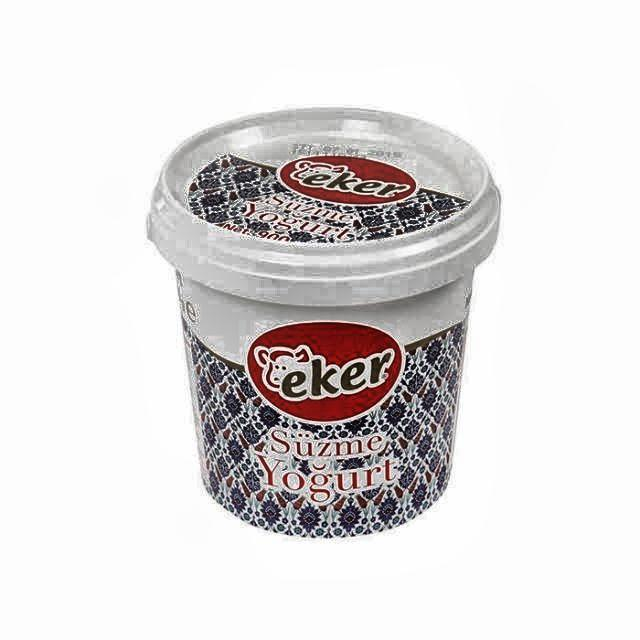plastic: (144, 102, 503, 543)
